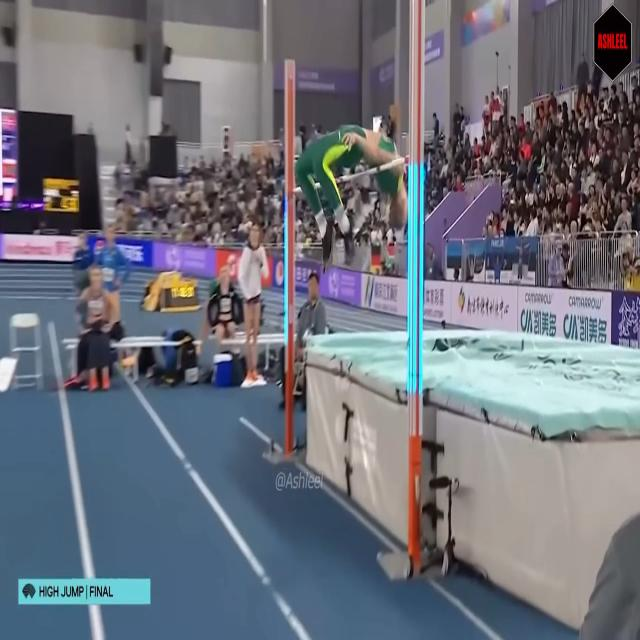jump: (295, 124, 408, 270)
